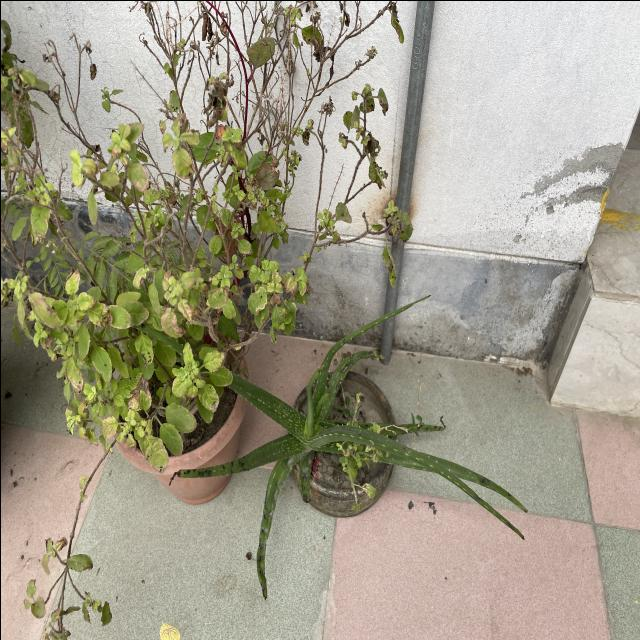Breeding Place: (84, 310, 258, 514), (274, 366, 408, 533)
